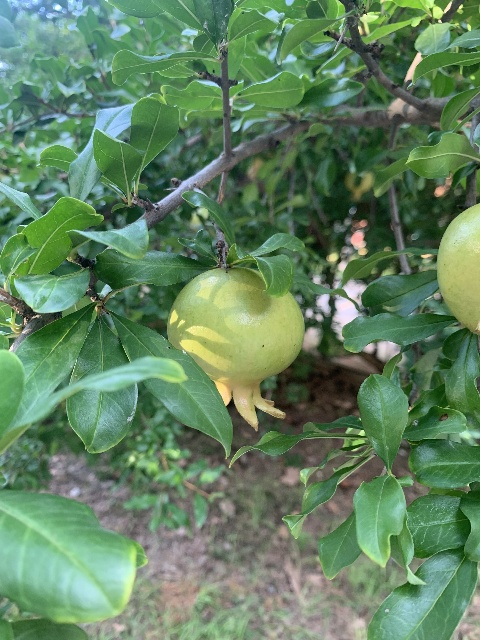mid-growth: (166, 266, 304, 431)
